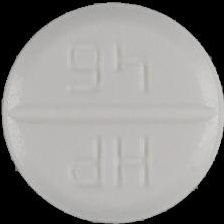50436-3919: (0, 0, 224, 224)
